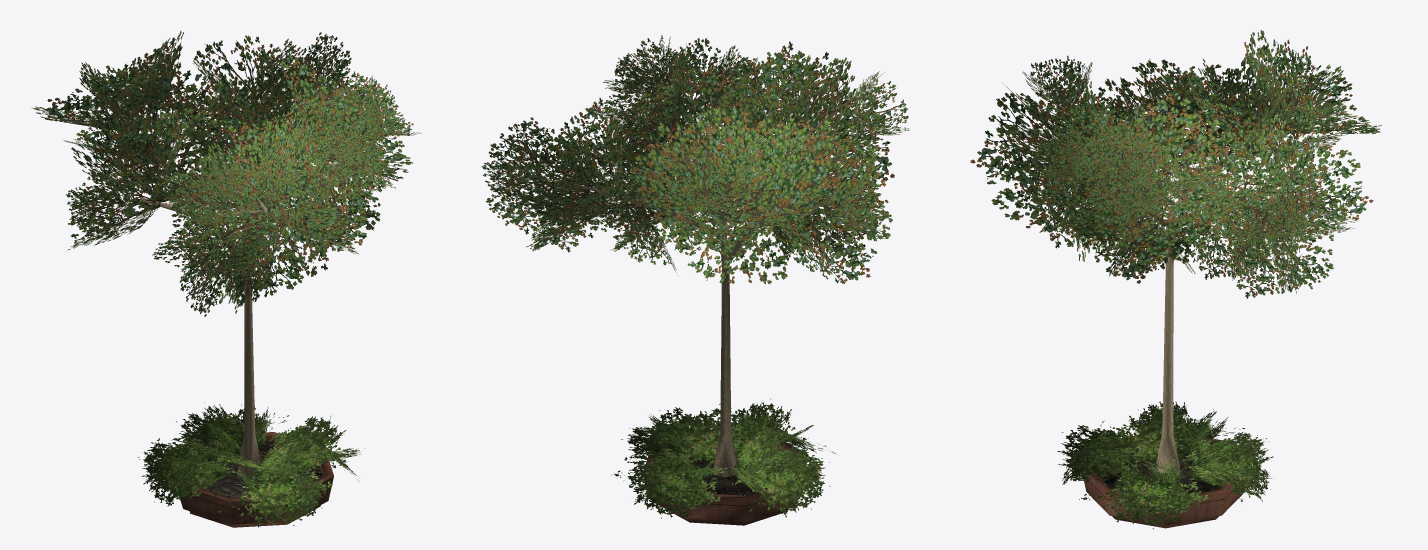
Rendered from mun_all_imprv_planter_s03_l1.fbx.
The picture shows the model from 3 angles, left to right: view 1: azimuth 30°, elevation 25°; view 2: azimuth 150°, elevation 25°; view 3: azimuth 270°, elevation 25°; orthographic projection.
Parts seen in each view (by area): view 1: mesh_node; view 2: mesh_node; view 3: mesh_node.
Boxes of the visible parts, box(x1,y1,x2,y2) form: mesh_node: box(31, 31, 421, 527); mesh_node: box(481, 35, 909, 525); mesh_node: box(970, 30, 1381, 529).
Bounding box in the file's own units: 12.17 × 14.12 × 13.08.
